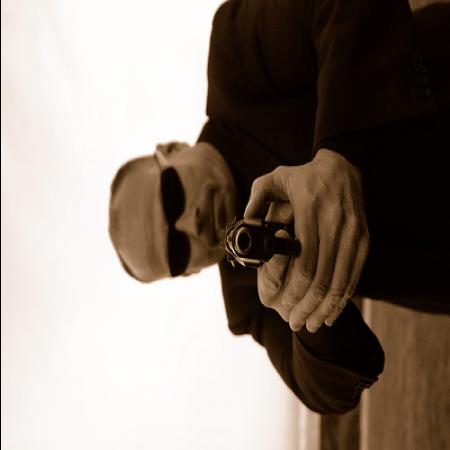Pistol: (216, 220, 299, 272)
